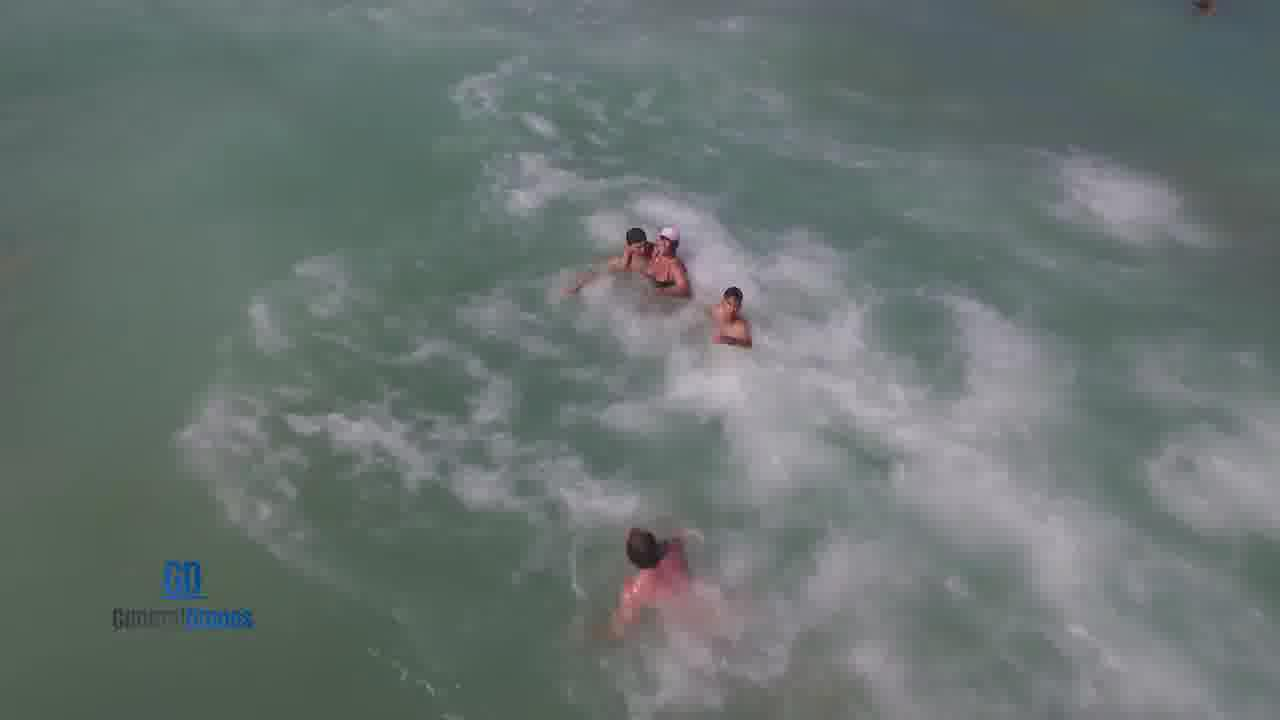human: (589, 506, 710, 622), (586, 220, 706, 313), (694, 283, 778, 362)
